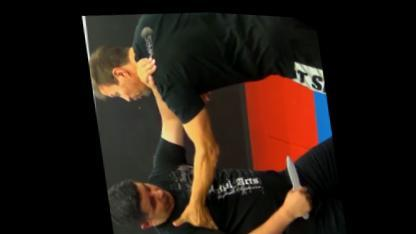knife: (278, 146, 312, 218)
